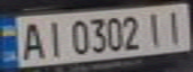0: (66, 16, 90, 56), (106, 14, 127, 53)
2: (121, 11, 145, 51)
3: (87, 15, 109, 54)
A: (15, 19, 48, 61)
I: (39, 17, 69, 60), (160, 7, 190, 45), (142, 9, 169, 46)
